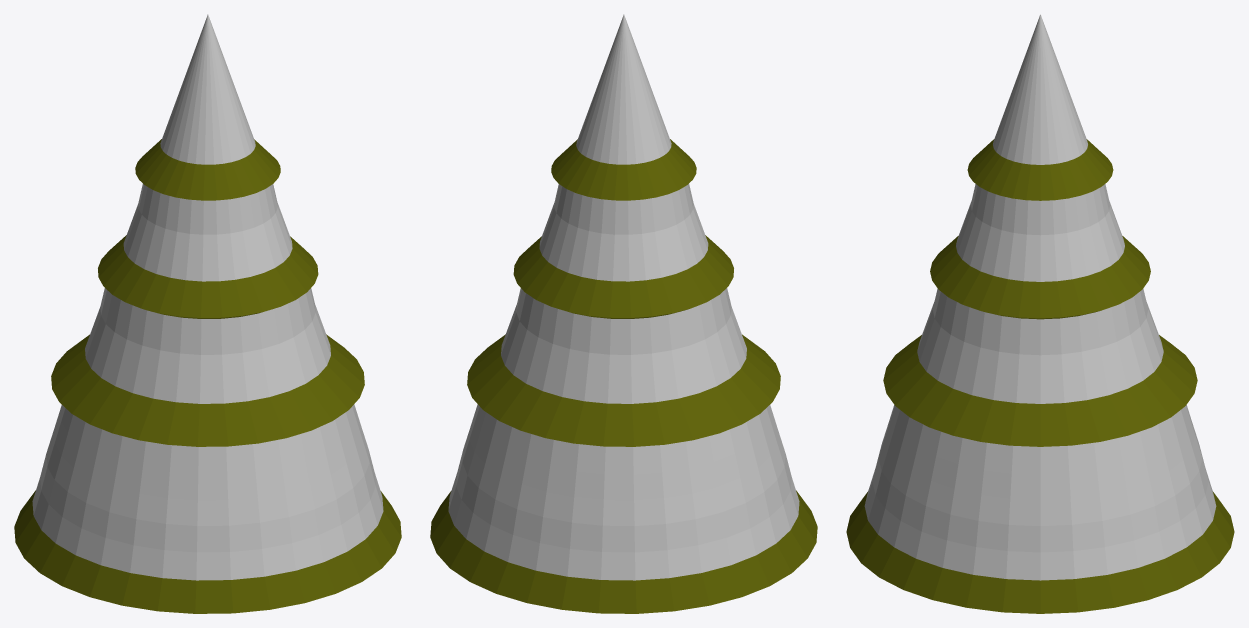
Rendered from drill.fbx.
The picture shows the model from 3 angles, left to right: view 1: azimuth 30°, elevation 25°; view 2: azimuth 150°, elevation 25°; view 3: azimuth 270°, elevation 25°; orthographic projection.
Parts seen in each view (by area): view 1: Cone; view 2: Cone; view 3: Cone.
Boxes of the visible parts, x1,y1,x2,y2 form: Cone: [14, 14, 401, 613]; Cone: [430, 14, 817, 613]; Cone: [846, 14, 1234, 613].
Bounding box in the file's own units: 1.97 × 3.03 × 1.97.
